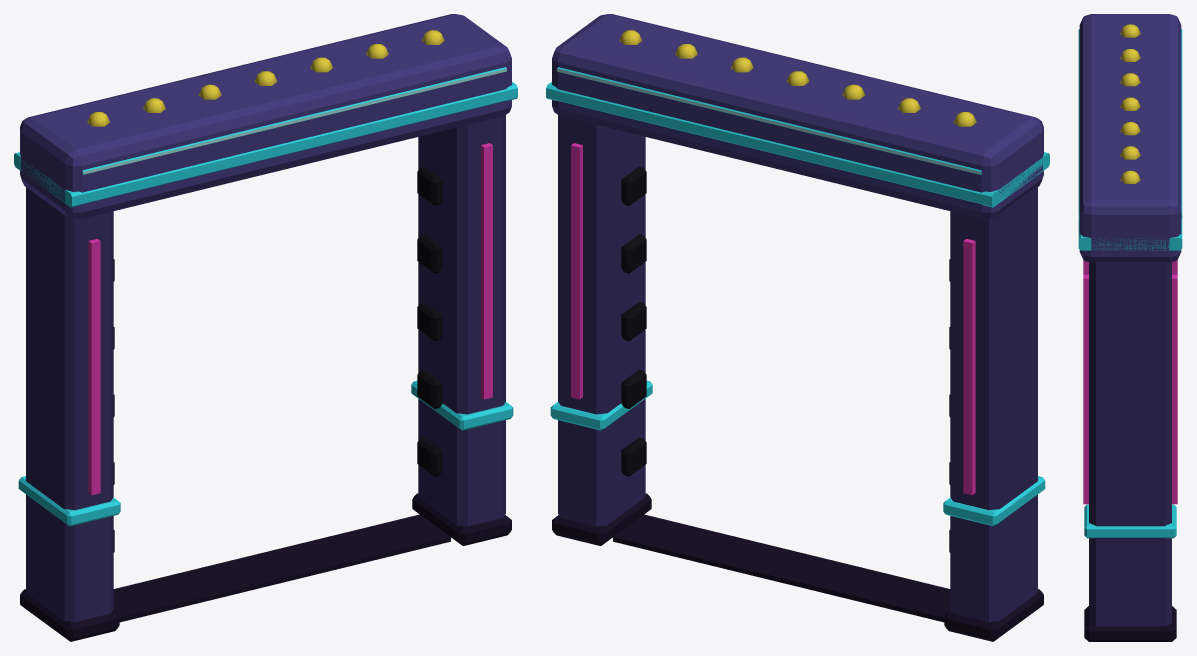
File: neon-gateframe.glb
3 renders of one model, left to right at view 1: azimuth 30°, elevation 25°; view 2: azimuth 150°, elevation 25°; view 3: azimuth 270°, elevation 25°, orthographic. The views are drawn at different scales.
Visible parts, largest first — view 1: neon-gateframe; view 2: neon-gateframe; view 3: neon-gateframe.
Part boxes in pixels (<box>): neon-gateframe: <box>14,14,517,641</box>; neon-gateframe: <box>546,14,1049,641</box>; neon-gateframe: <box>1078,14,1182,641</box>.
Bounding box in the file's own units: 2 × 2.14 × 0.451.
